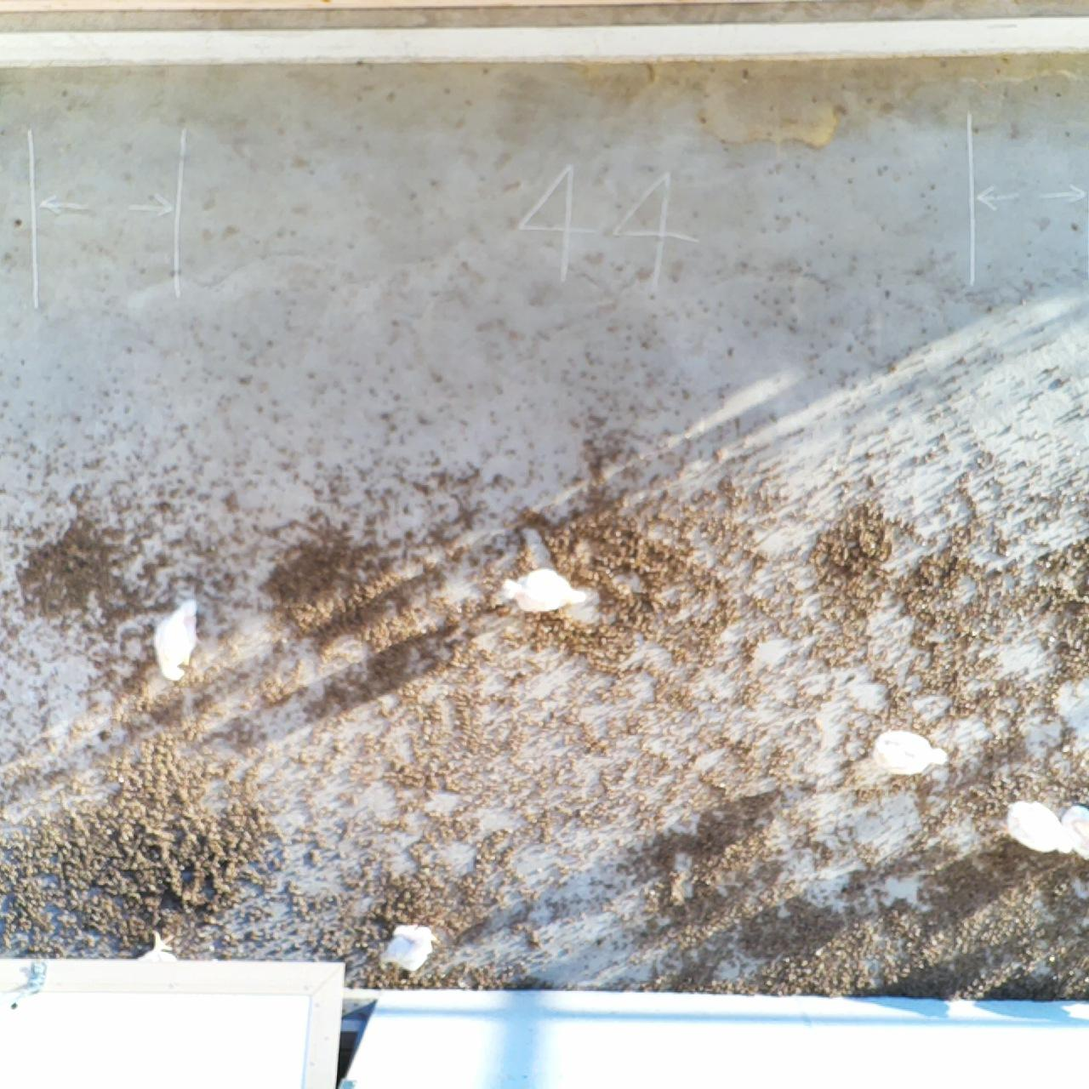chicken: (145, 594, 205, 683), (499, 562, 591, 618), (867, 723, 952, 780), (1002, 797, 1067, 858), (378, 921, 443, 974), (1057, 798, 1089, 862)
